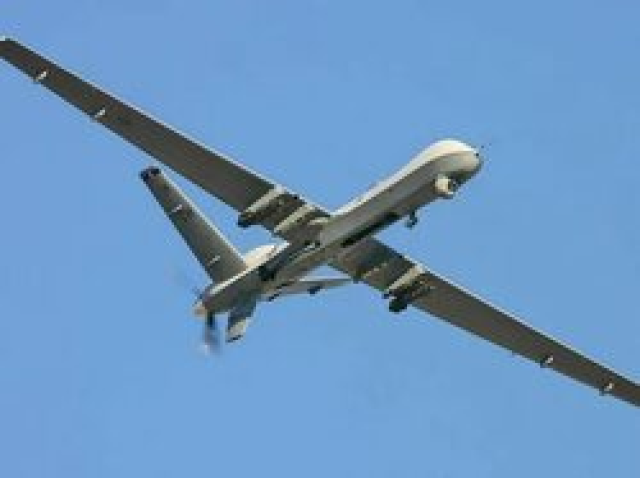military drone: (0, 33, 640, 409)
